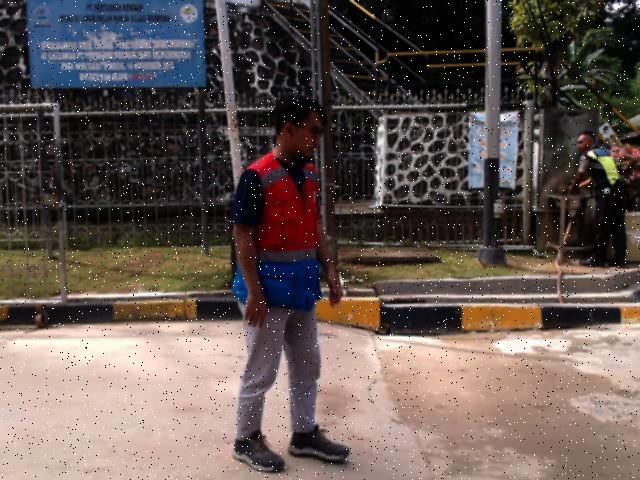safety-shoes: (285, 423, 355, 464), (230, 429, 289, 474)
